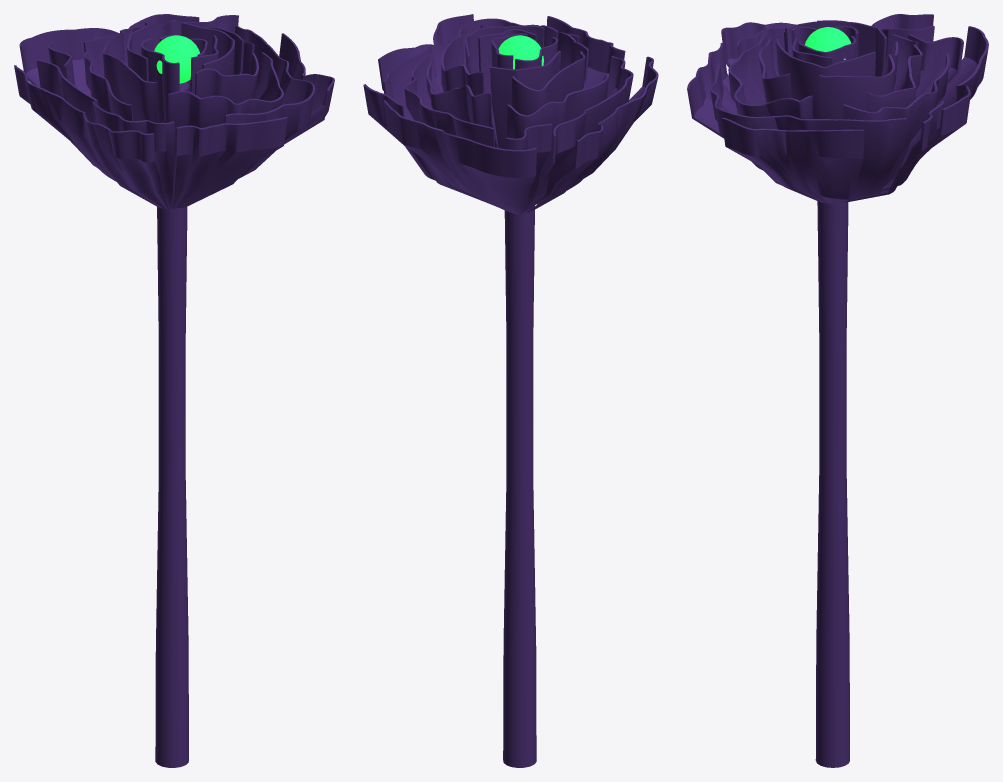
Rendered from ceiling flower lamp.fbx.
3 views of the same model, side by side, from view 1: azimuth 30°, elevation 25°; view 2: azimuth 150°, elevation 25°; view 3: azimuth 270°, elevation 25° (orthographic).
Visible parts, largest first — view 1: BézierCurve, Sphere; view 2: BézierCurve, Sphere; view 3: BézierCurve, Sphere.
Boxes of the visible parts, x1,y1,x2,y2 form: BézierCurve: (14, 14, 334, 767); Sphere: (154, 35, 199, 83); BézierCurve: (363, 14, 658, 767); Sphere: (498, 35, 543, 69); BézierCurve: (687, 14, 988, 767); Sphere: (805, 27, 851, 59).
Size of the model in its own units: 524 by 1508 by 563.
